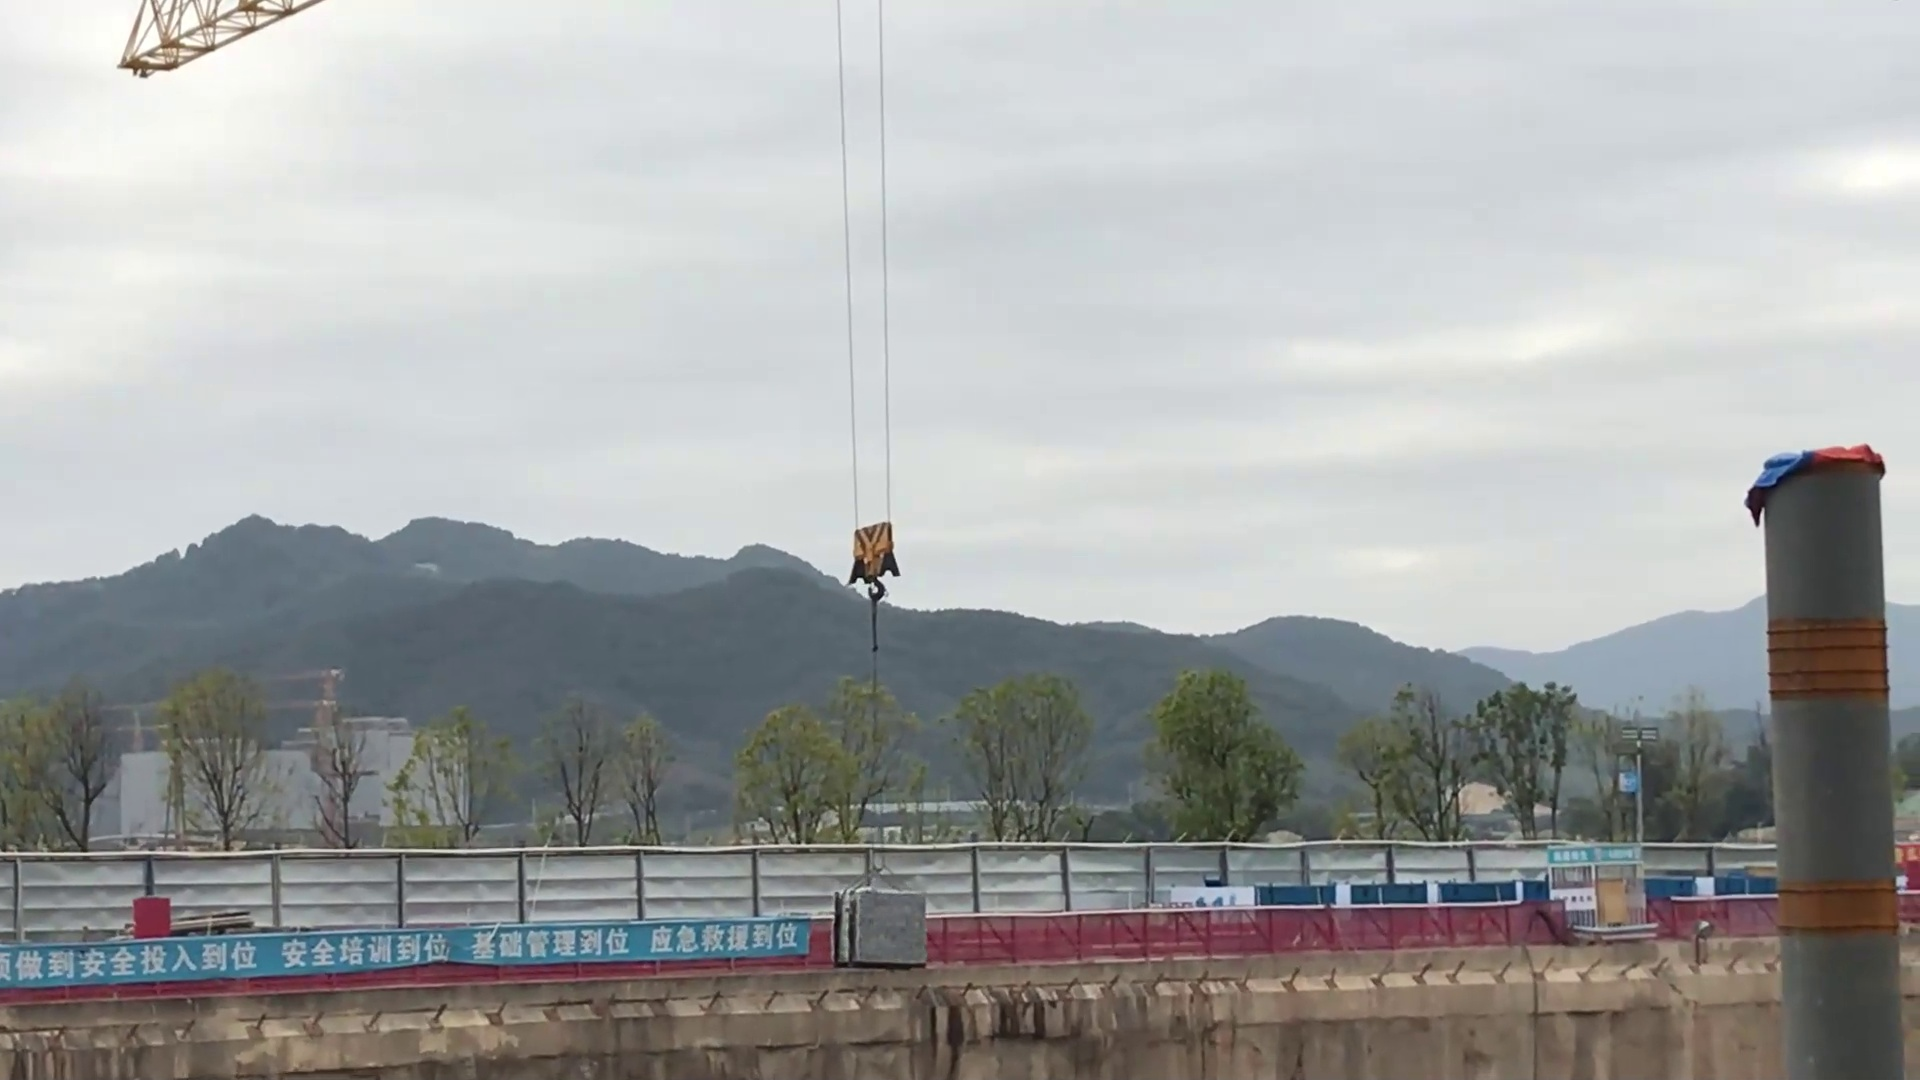hook: (835, 514, 909, 603)
slogan: (8, 911, 812, 992)
